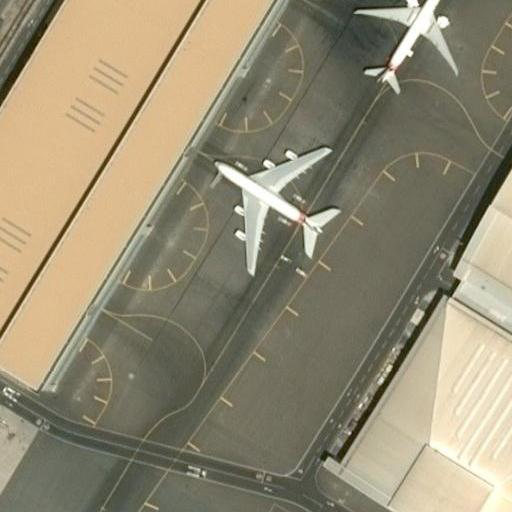Aircraft: (211, 137, 343, 274), (352, 0, 463, 92)
